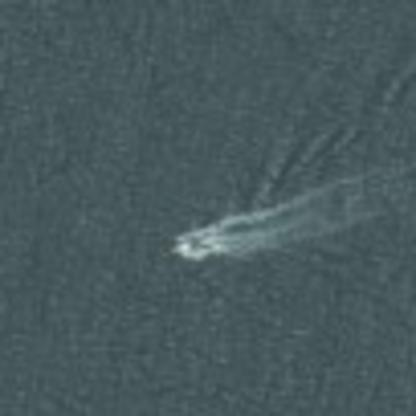ship: (146, 226, 209, 274)
